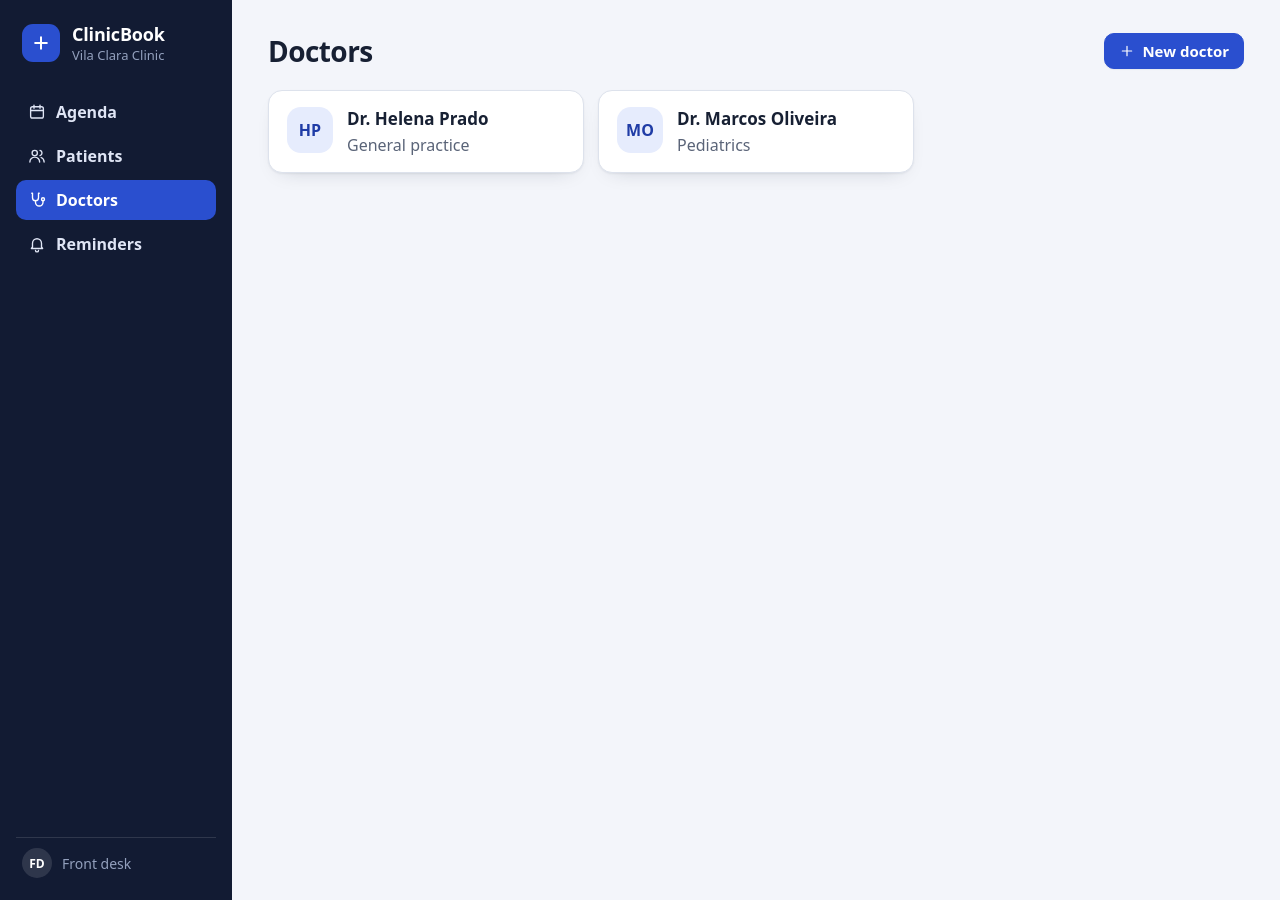
Scenario: the doctors › register a new doctor with its hours, on a screen of its own
Expected: the navigation bar named "Main" is shown, [16, 92, 216, 264]
Click the link "New doctor": (1174, 51) [1104, 33, 1244, 69]
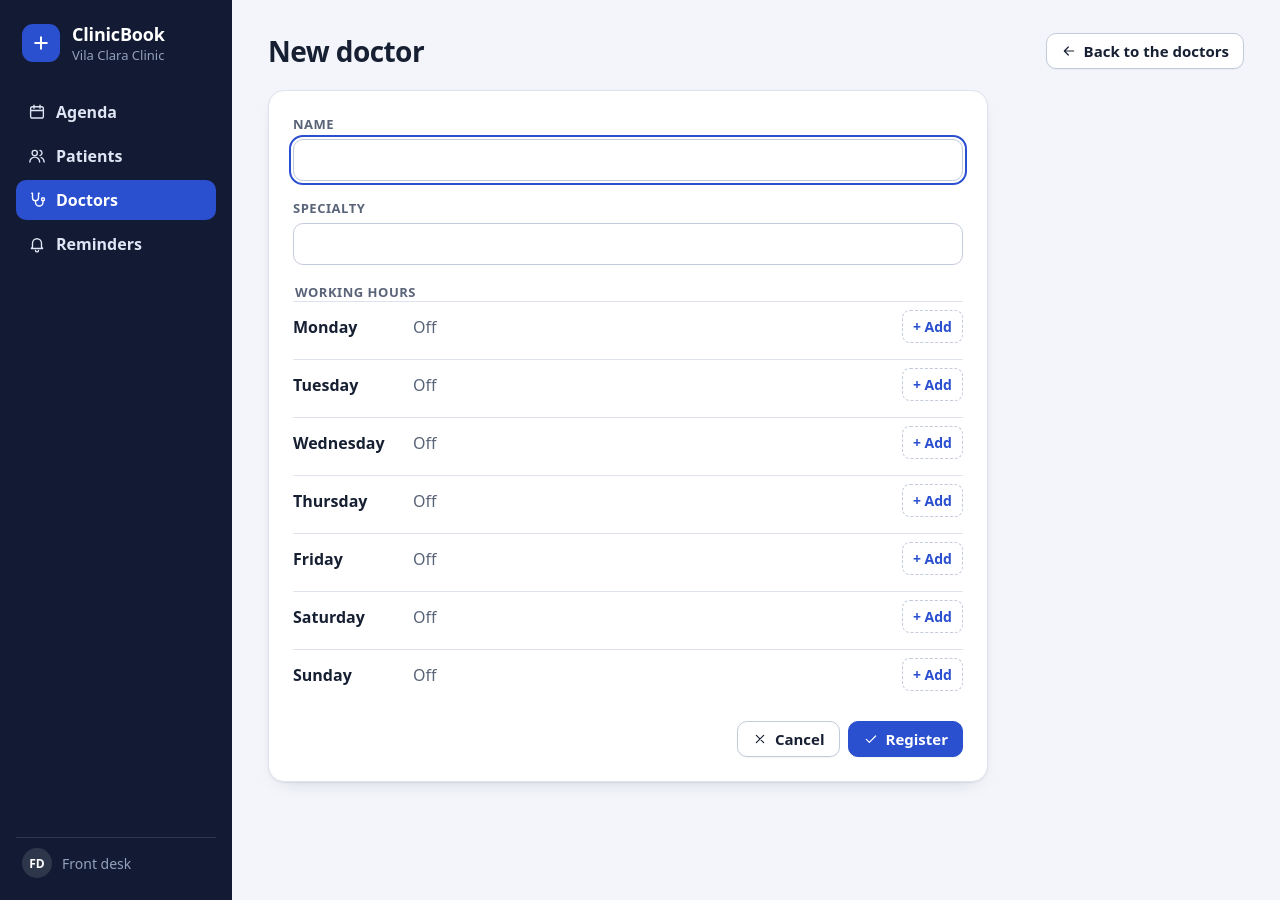
In the field labelled "Name": (628, 160) [293, 139, 963, 181], type "Dr. Ana Ribeiro"
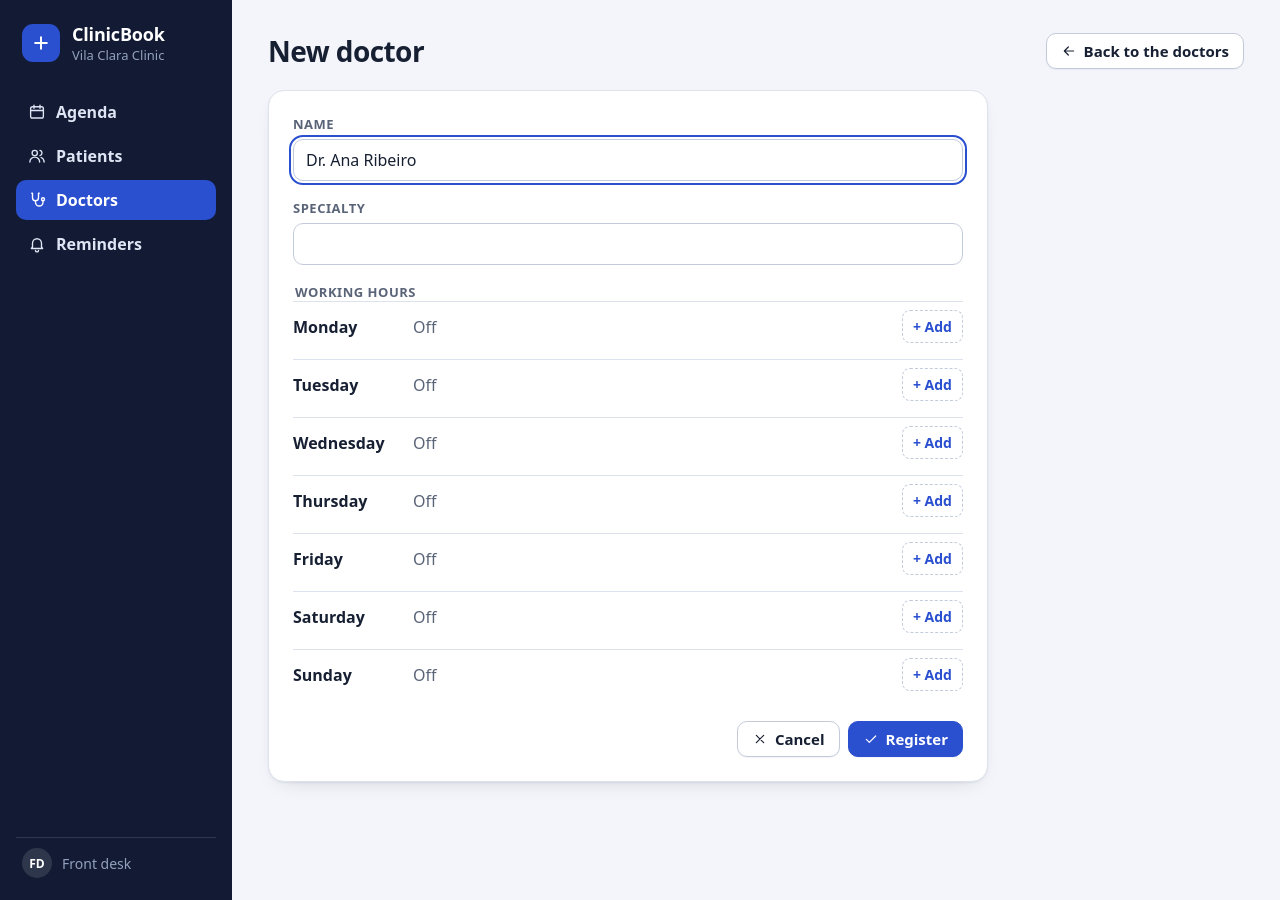
In the field labelled "Specialty": (628, 244) [293, 223, 963, 265], type "Cardiology"
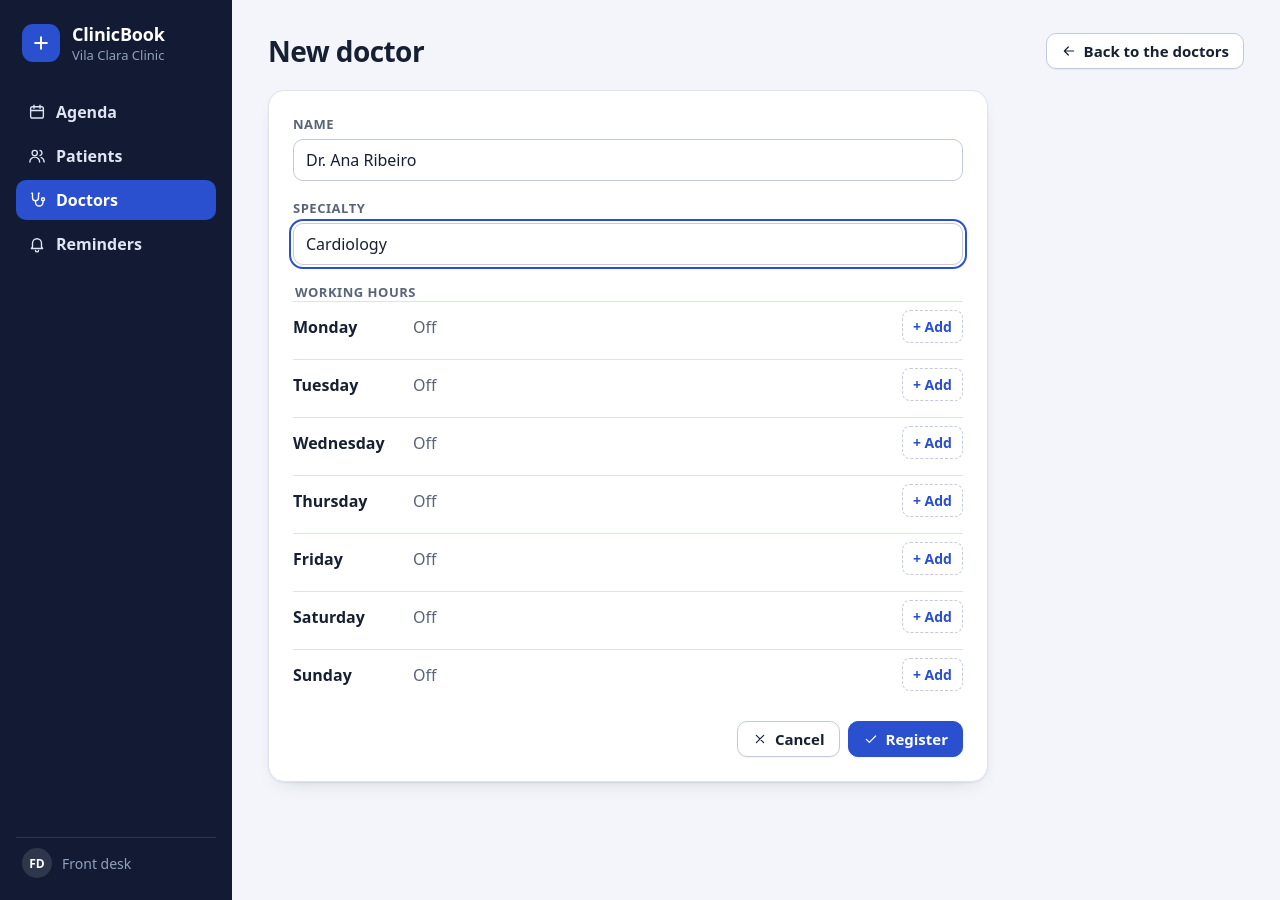
Click the button with aria-label "Add a period on Tuesday": (932, 384) [902, 368, 963, 401]
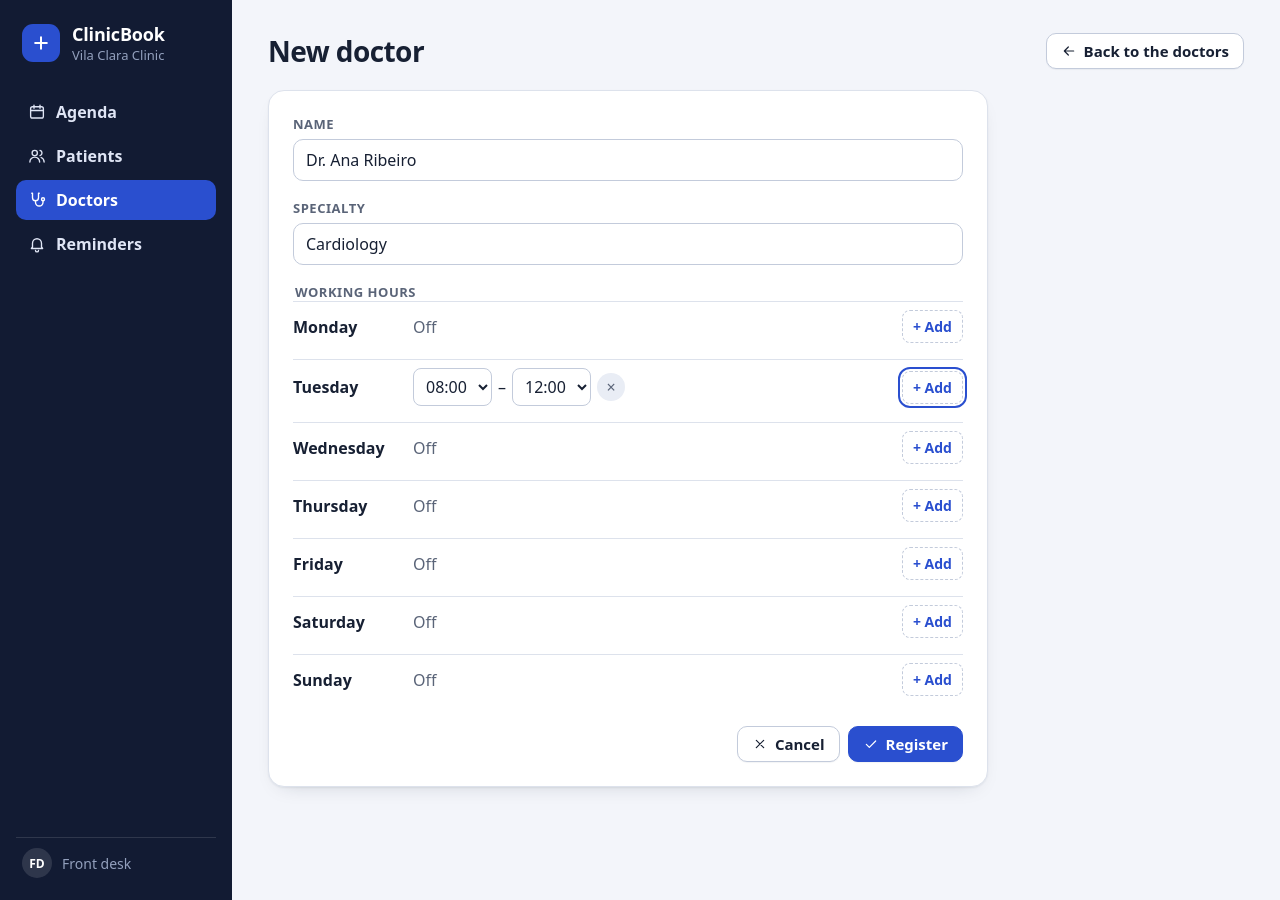
Click the button "Register": (905, 744) [848, 726, 963, 762]
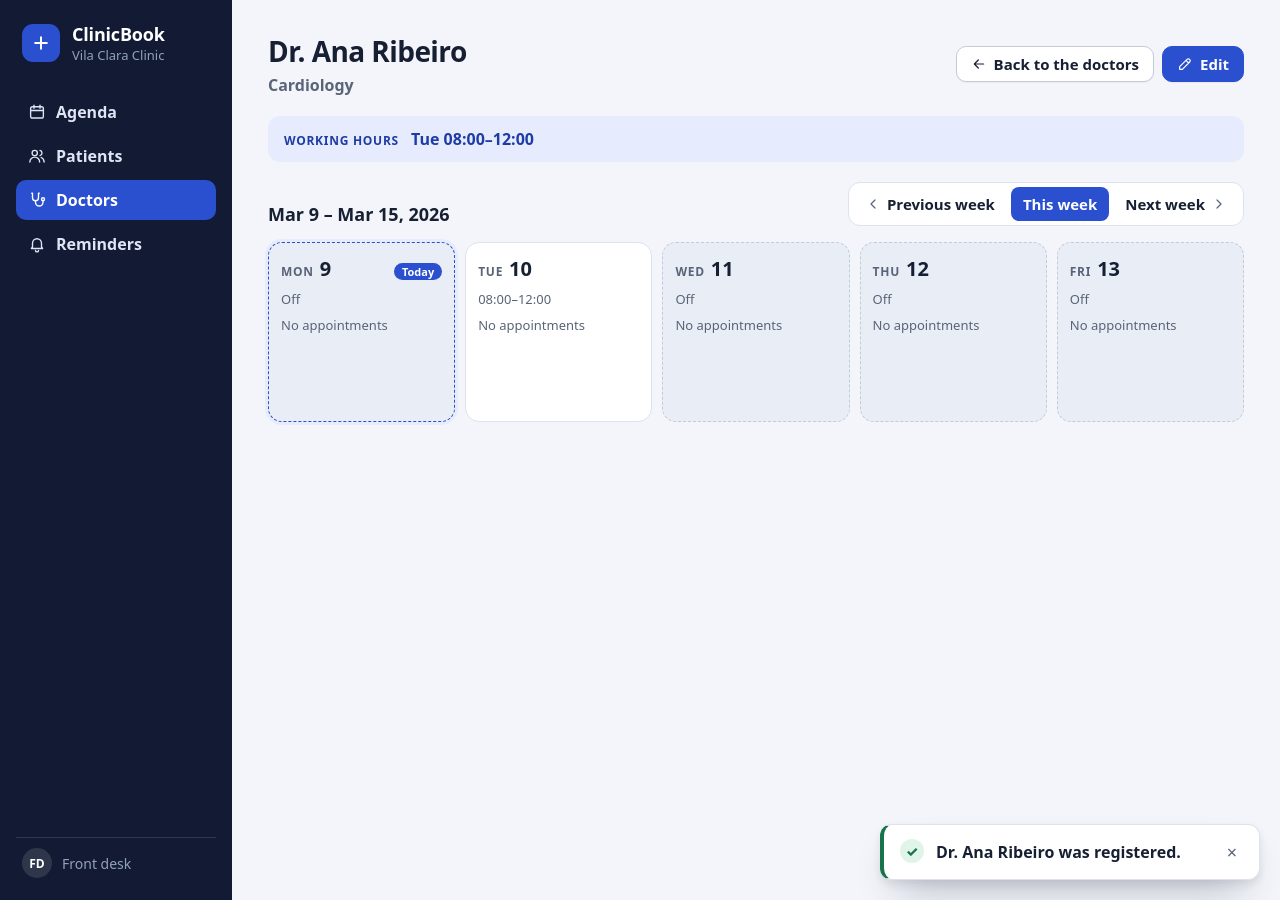
Expected: the heading "Dr. Ana Ribeiro" is shown, [268, 32, 467, 70]
Expected: the message reads "Dr. Ana Ribeiro was registered.", [936, 841, 1181, 863]
